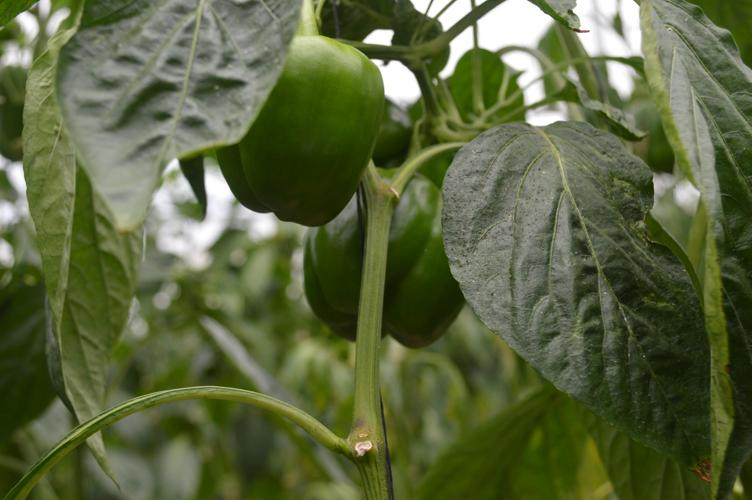BellPepper: (208, 29, 383, 230), (295, 168, 458, 348)
